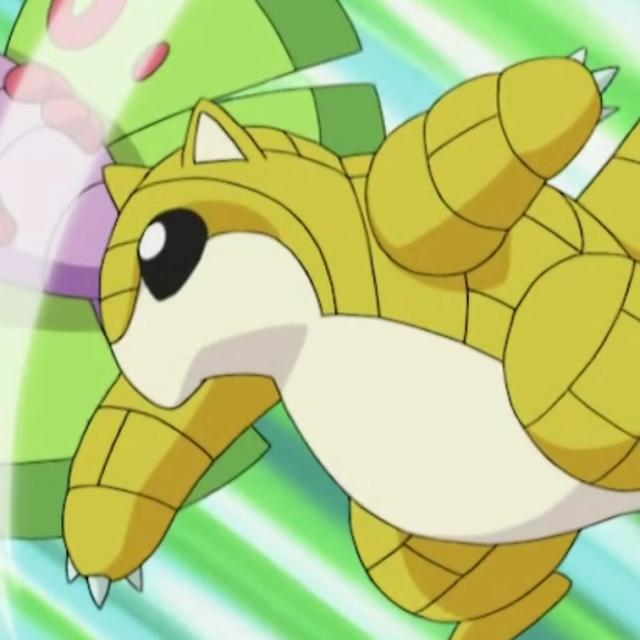Sandshrew: (53, 57, 640, 640)
